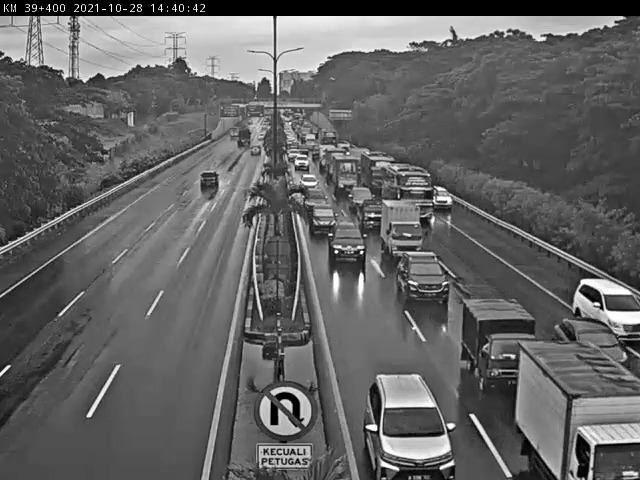big bus: (382, 164, 430, 221)
car: (367, 371, 455, 480), (575, 279, 640, 342), (554, 315, 625, 363), (396, 251, 451, 304), (327, 216, 365, 263), (310, 205, 335, 235), (361, 203, 385, 231), (347, 185, 373, 207), (432, 184, 454, 210), (195, 172, 219, 193), (304, 188, 328, 207)
small truck: (514, 342, 640, 480), (461, 298, 539, 392), (380, 199, 423, 256)
